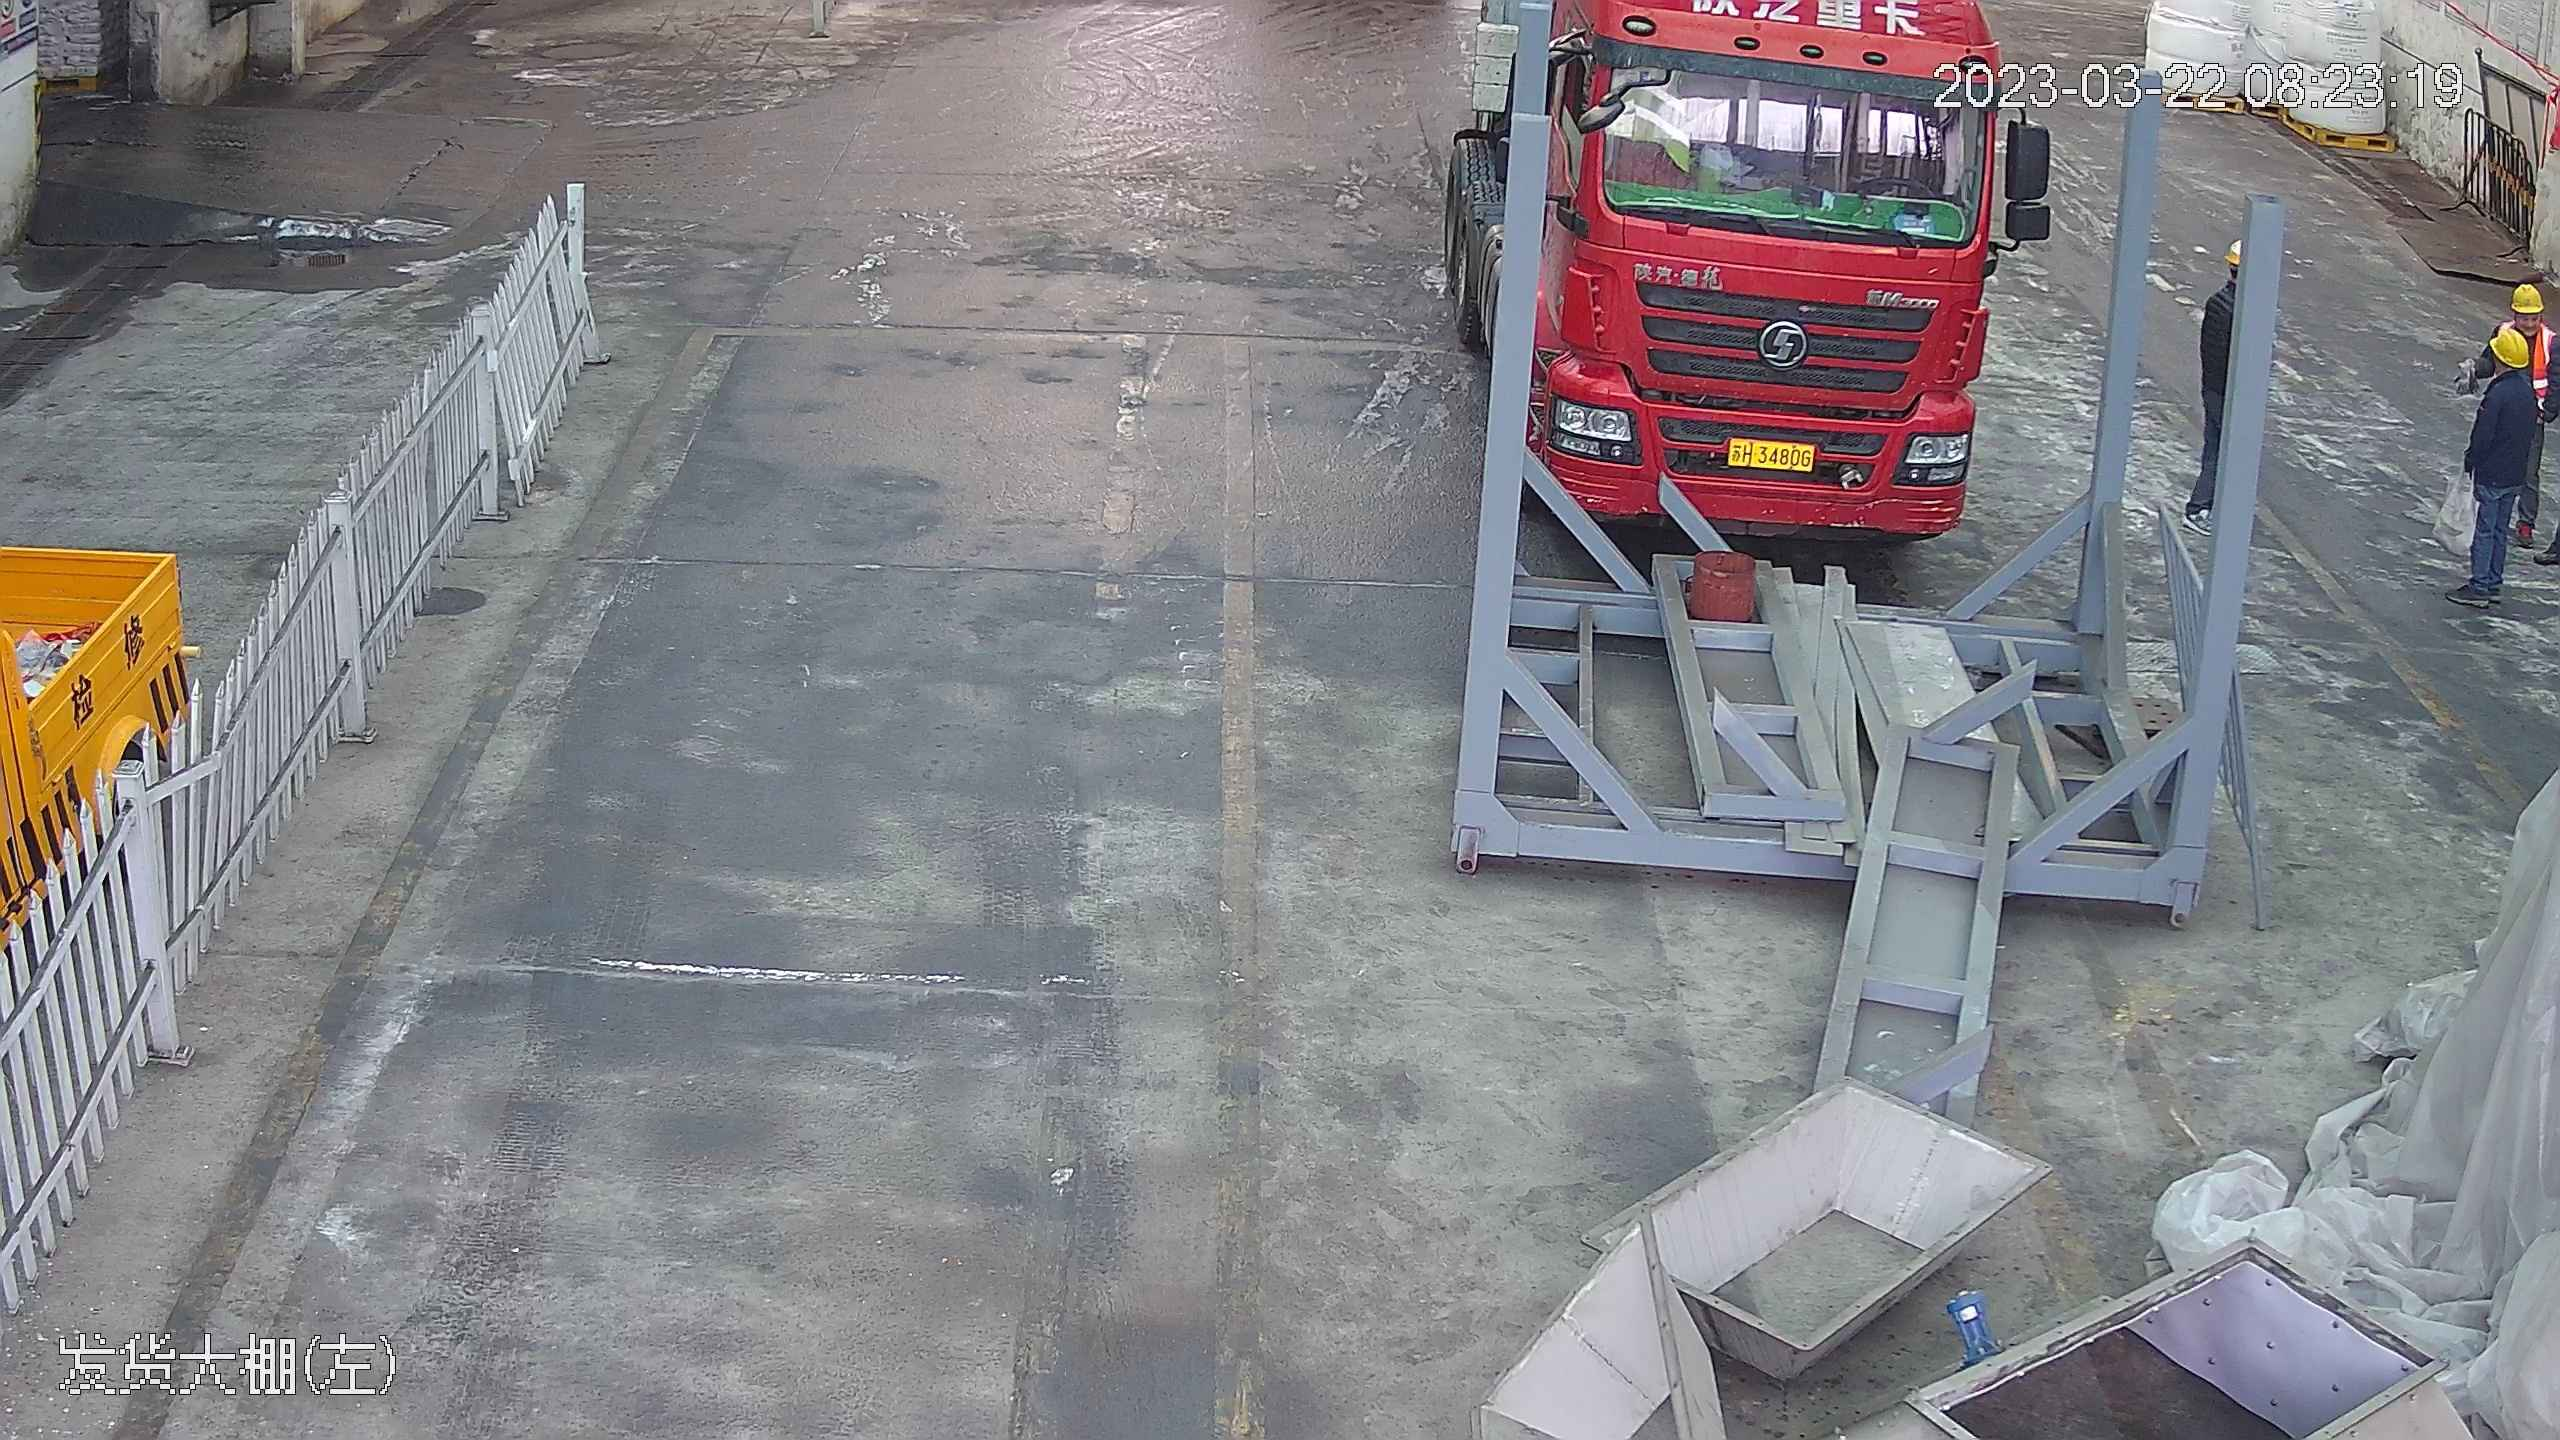head: (2467, 320, 2543, 415), (2487, 282, 2554, 367)
helmet: (2483, 325, 2532, 367), (2508, 279, 2549, 310)
people: (2446, 315, 2542, 611)
truck: (1500, 1, 2013, 544)
